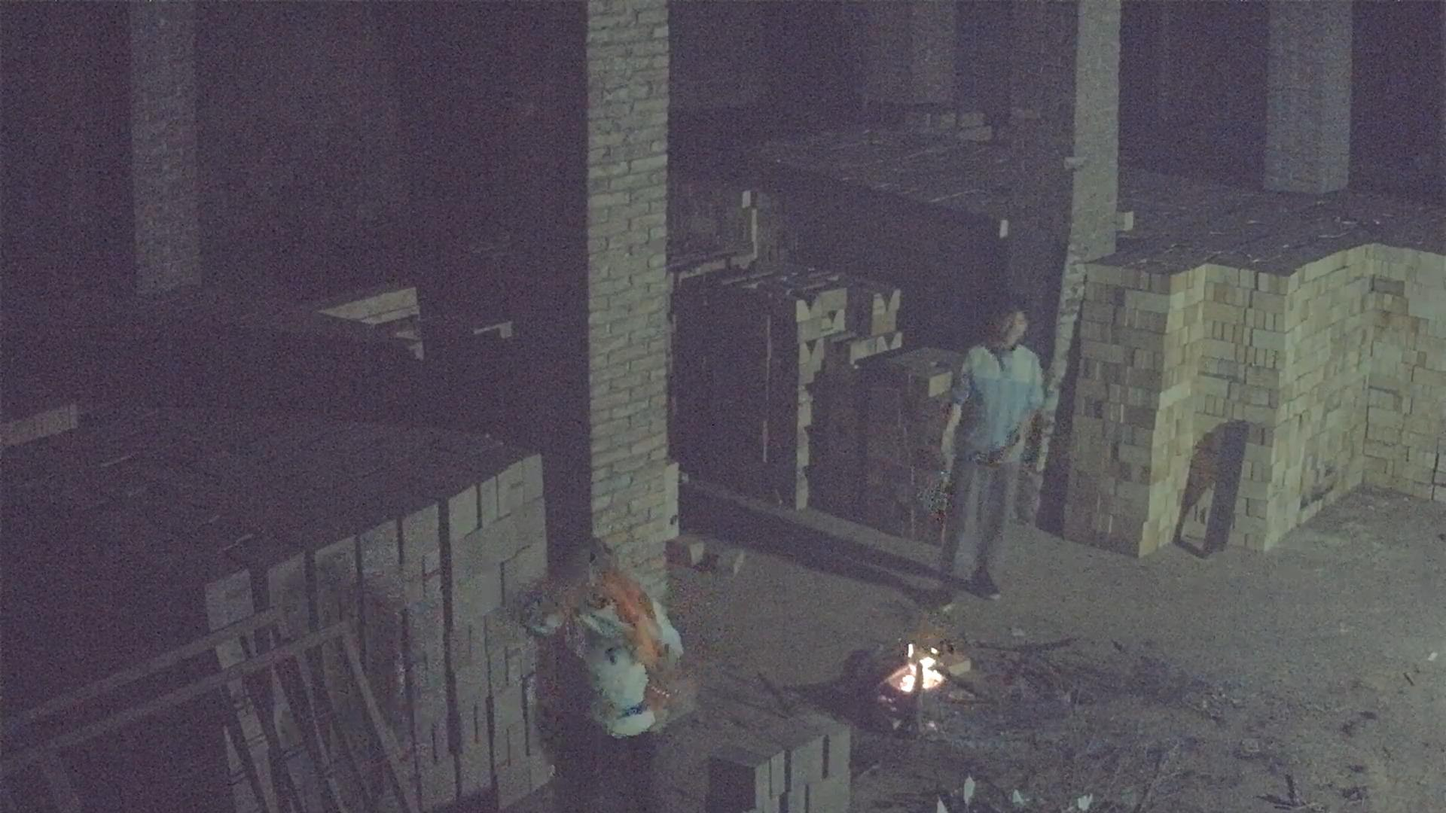fire: (888, 644, 947, 693)
